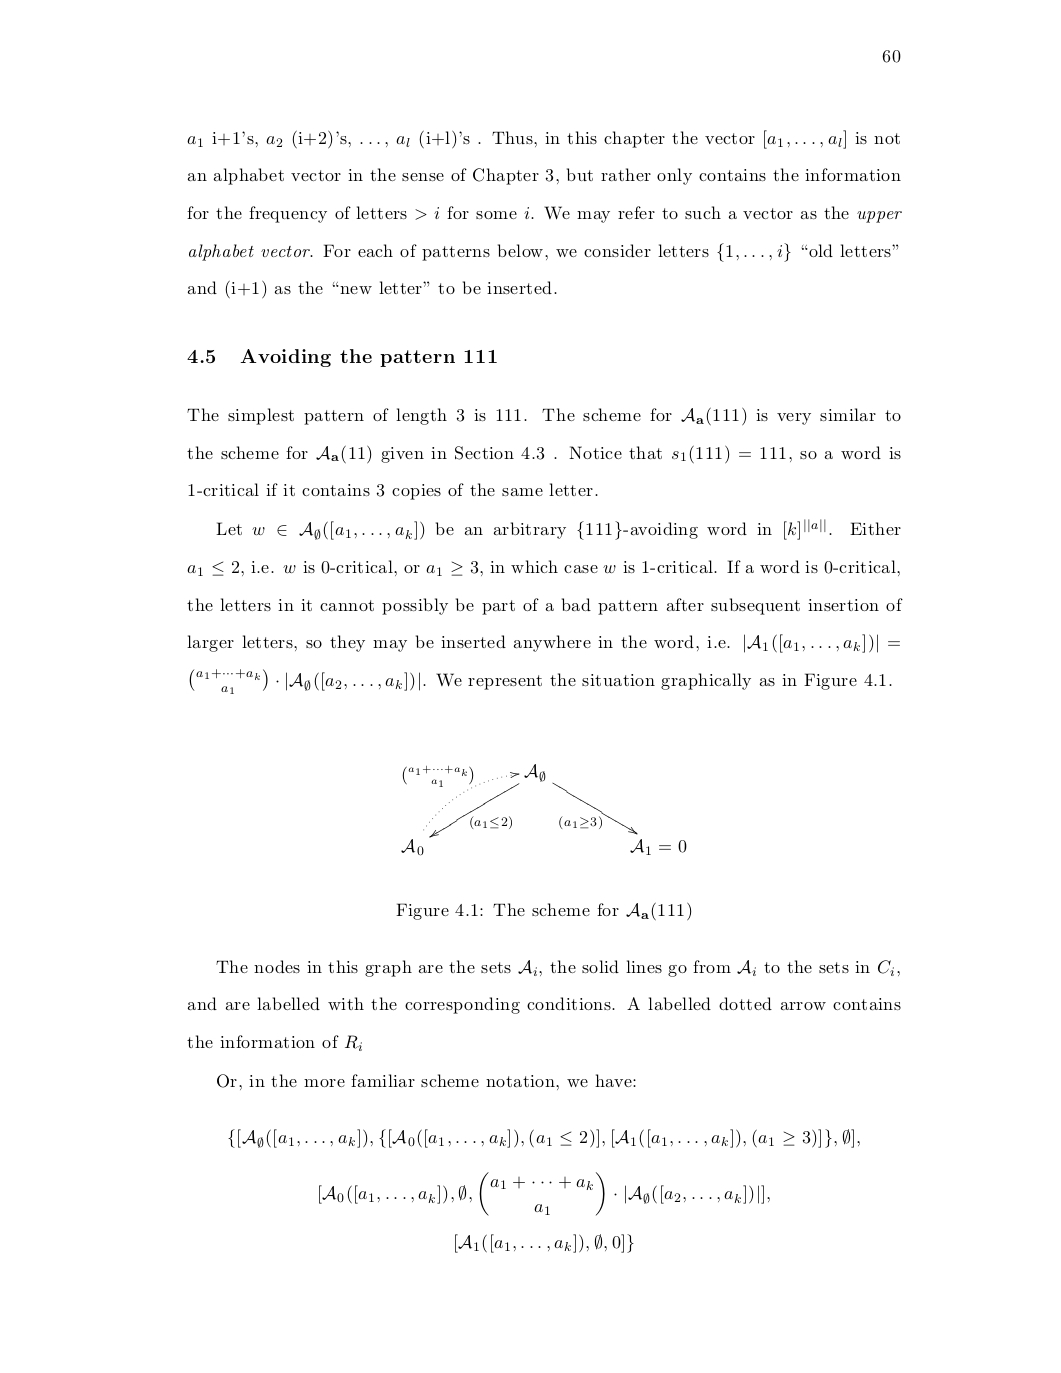figure: (401, 763, 687, 856)
formula: (319, 1171, 769, 1216), (228, 1128, 859, 1148), (455, 1231, 633, 1253)
